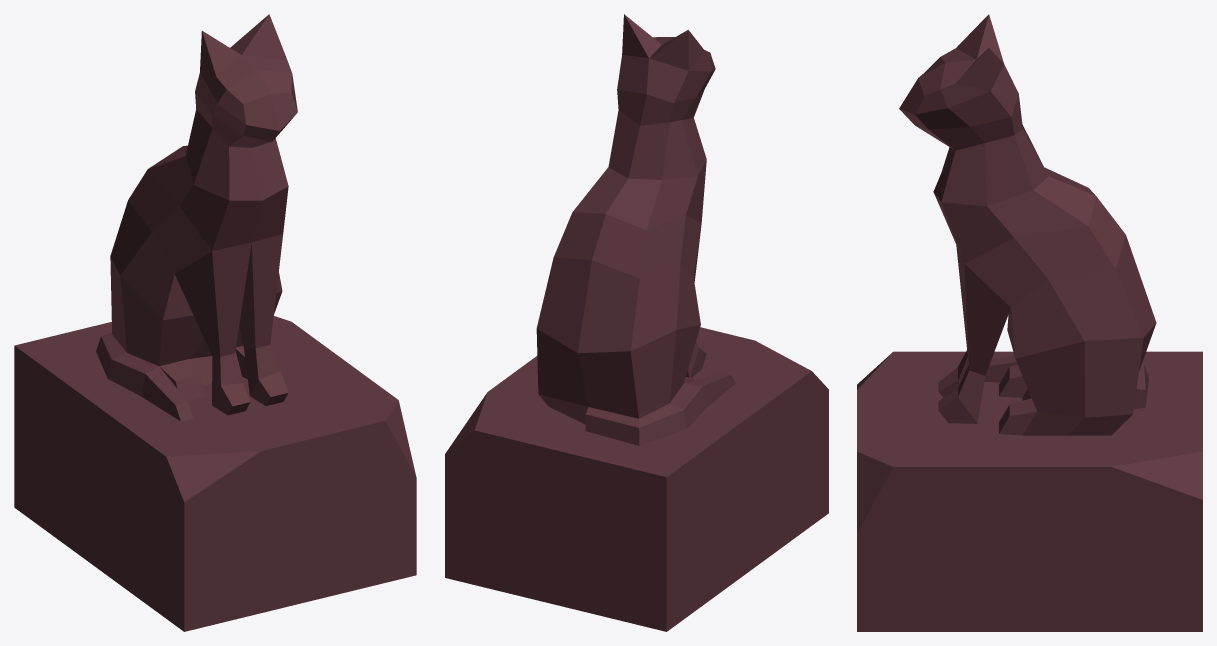
The model's file is egypt-statue-cat.fbx.
3 views of the same model, side by side, from view 1: azimuth 30°, elevation 25°; view 2: azimuth 150°, elevation 25°; view 3: azimuth 270°, elevation 25° (orthographic). The views are drawn at different scales.
Parts seen in each view (by area): view 1: egypt-statue-cat; view 2: egypt-statue-cat; view 3: egypt-statue-cat.
Part boxes in pixels (x1,y1,x2,y2): egypt-statue-cat: (14,14,416,631); egypt-statue-cat: (445,14,828,631); egypt-statue-cat: (857,14,1202,631).
Size of the model in its own units: 2.7 by 5.93 by 3.42.
